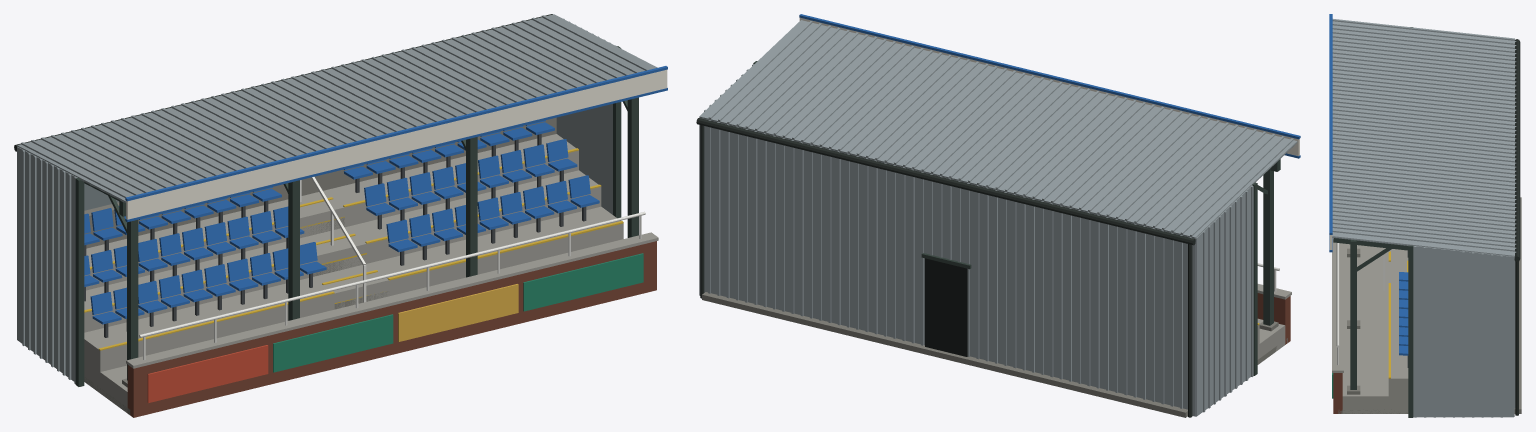
The model's file is the_shed.glb.
3 views of the same model, side by side, from view 1: azimuth 30°, elevation 25°; view 2: azimuth 150°, elevation 25°; view 3: azimuth 270°, elevation 25° (orthographic). The views are drawn at different scales.
Parts seen in each view (by area): view 1: Shed_Corrugated_Sheet, Shed_Concrete, Shed_Club_Primary_Seats, Shed_Front_Wall, Shed_Club_Secondary_Fascia, Shed_Steel_Frame, Shed_Advert_2, Shed_Club_Primary_Trim, Shed_Concrete_Dark, Shed_Advert_1, Shed_Advert_3, Shed_Railing_White (+2 smaller); view 2: Shed_Corrugated_Sheet, Shed_Gutter, Shed_Concrete_Dark, Shed_Shadow_Gap, Shed_Steel_Frame, Shed_Club_Primary_Trim, Shed_Club_Secondary_Fascia, Shed_Concrete, Shed_Front_Wall; view 3: Shed_Corrugated_Sheet, Shed_Concrete, Shed_Steel_Frame, Shed_Gutter, Shed_Concrete_Dark, Shed_Club_Primary_Trim, Shed_Club_Primary_Seats, Shed_Railing_White, Shed_Front_Wall, Shed_Step_Edge_Yellow.
Part boxes in pixels (box(x1,y1,x2,y2)): Shed_Corrugated_Sheet: box(17, 14, 657, 383); Shed_Concrete: box(84, 134, 658, 413); Shed_Club_Primary_Seats: box(84, 120, 599, 324); Shed_Front_Wall: box(127, 241, 656, 417); Shed_Club_Secondary_Fascia: box(126, 69, 667, 219); Shed_Steel_Frame: box(75, 46, 638, 386); Shed_Advert_2: box(273, 253, 643, 372); Shed_Club_Primary_Trim: box(125, 66, 667, 222); Shed_Concrete_Dark: box(84, 117, 556, 414); Shed_Advert_1: box(147, 345, 268, 402); Shed_Advert_3: box(398, 284, 518, 341); Shed_Railing_White: box(139, 177, 645, 360); Shed_Corrugated_Sheet: box(699, 20, 1297, 416); Shed_Gutter: box(696, 118, 1195, 417); Shed_Concrete_Dark: box(702, 292, 1287, 417); Shed_Shadow_Gap: box(925, 258, 967, 356); Shed_Steel_Frame: box(753, 61, 1280, 375); Shed_Club_Primary_Trim: box(799, 14, 1300, 158); Shed_Club_Secondary_Fascia: box(799, 17, 1299, 156); Shed_Concrete: box(1257, 284, 1291, 359); Shed_Front_Wall: box(1257, 293, 1290, 344); Shed_Corrugated_Sheet: box(1332, 19, 1516, 417); Shed_Concrete: box(1332, 238, 1408, 413); Shed_Steel_Frame: box(1333, 27, 1413, 417); Shed_Gutter: box(1514, 39, 1520, 415); Shed_Concrete_Dark: box(1338, 197, 1521, 413); Shed_Club_Primary_Trim: box(1329, 14, 1332, 252); Shed_Club_Primary_Seats: box(1399, 272, 1408, 355); Shed_Railing_White: box(1336, 243, 1394, 364); Shed_Front_Wall: box(1333, 373, 1342, 413); Shed_Step_Edge_Yellow: box(1388, 251, 1408, 378).
Bounding box in the file's own units: 11.92 × 4.68 × 4.4.
